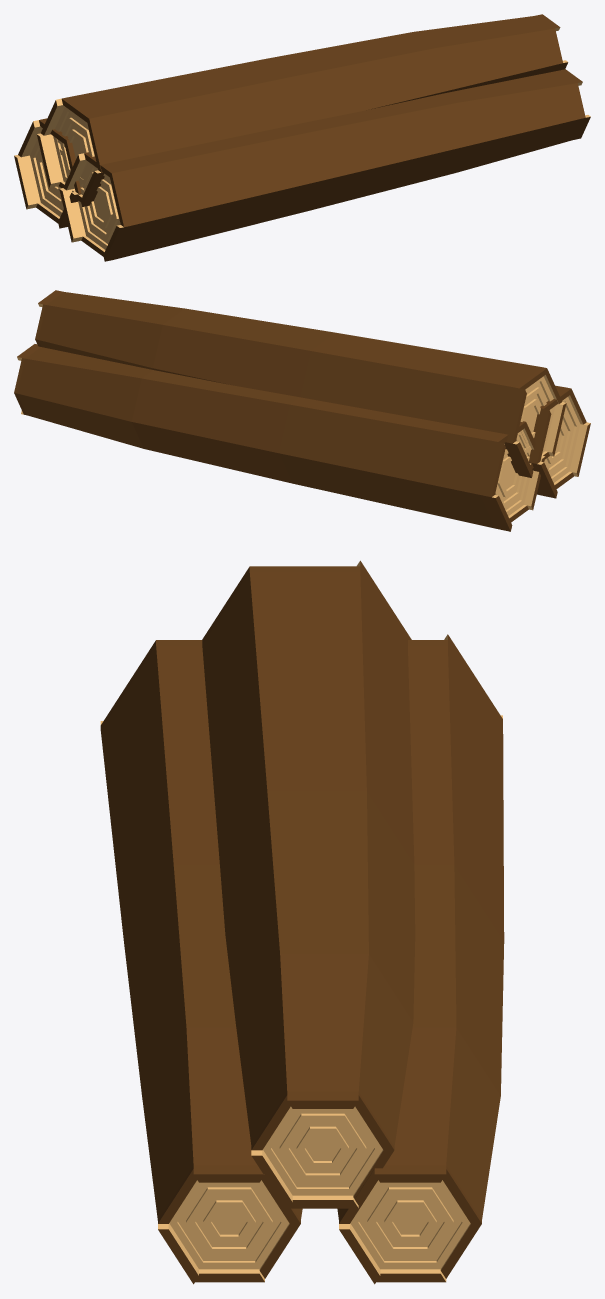
File: TRONCO03.fbx
3 views of the same model, one above another, from view 1: azimuth 30°, elevation 25°; view 2: azimuth 150°, elevation 25°; view 3: azimuth 270°, elevation 25° (orthographic). The views are drawn at different scales.
Parts seen in each view (by area): view 1: Circle.008, Circle.010, Circle.009; view 2: Circle.009, Circle.010, Circle.008; view 3: Circle.010, Circle.008, Circle.009.
Part boxes in pixels (x1,y1,x2,y2): Circle.008: [59, 69, 590, 261]; Circle.010: [37, 14, 568, 206]; Circle.009: [14, 118, 82, 228]; Circle.009: [14, 344, 545, 531]; Circle.010: [35, 290, 566, 477]; Circle.008: [528, 385, 590, 498]; Circle.010: [202, 560, 415, 1210]; Circle.008: [100, 640, 302, 1284]; Circle.009: [337, 634, 504, 1284].
Size of the model in its own units: 1164 by 289 by 412.
